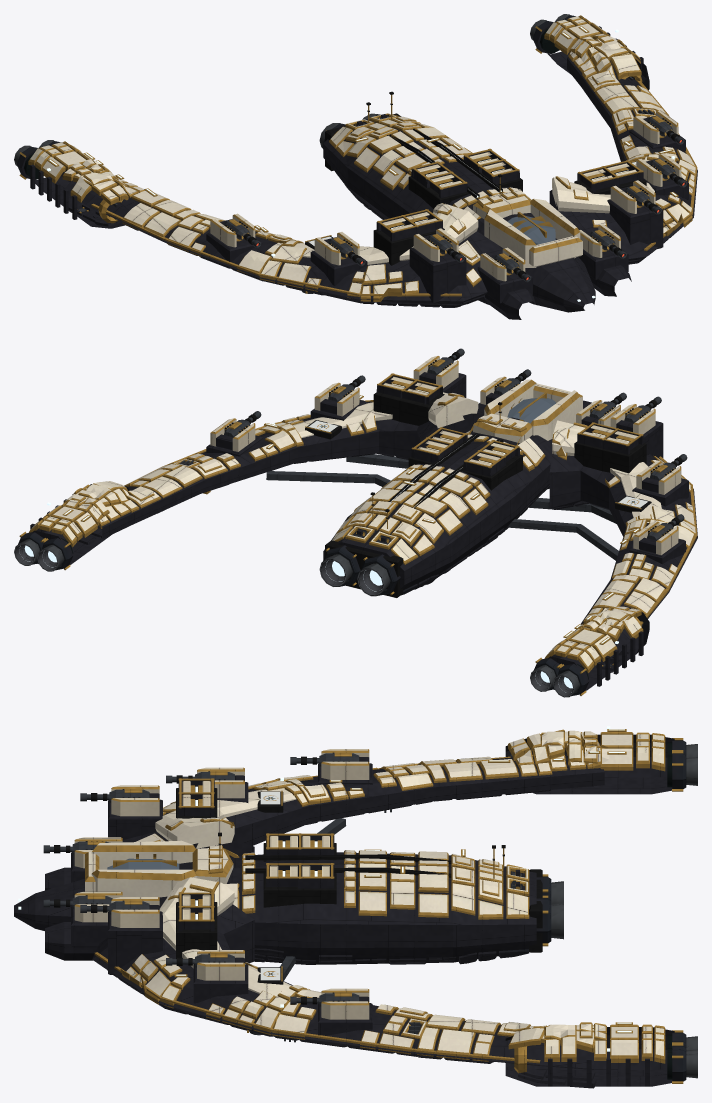
Rendered from europa-schiff5.glb.
3 views of the same model, one above another, from view 1: azimuth 30°, elevation 25°; view 2: azimuth 150°, elevation 25°; view 3: azimuth 270°, elevation 25° (orthographic). The views are drawn at different scales.
Visible parts, largest first — view 1: Hull_LOD0; view 2: Hull_LOD0, EngineLight; view 3: Hull_LOD0, Laser_01, Laser_07, Laser_03, Laser_08, Laser_05, Laser_04.
Part boxes in pixels (x1,y1,x2,y2): Hull_LOD0: (14, 14, 697, 319); Hull_LOD0: (14, 356, 697, 697); EngineLight: (20, 545, 572, 692); Hull_LOD0: (14, 726, 697, 1088); Laser_01: (43, 895, 112, 909); Laser_07: (290, 992, 359, 1006); Laser_03: (80, 900, 149, 914); Laser_08: (290, 752, 359, 766); Laser_05: (166, 953, 234, 967); Laser_04: (80, 789, 149, 802).
Bounding box in the file's own units: 78.75 × 13.39 × 70.4.
Materials: 6 (4 with a texture image).
